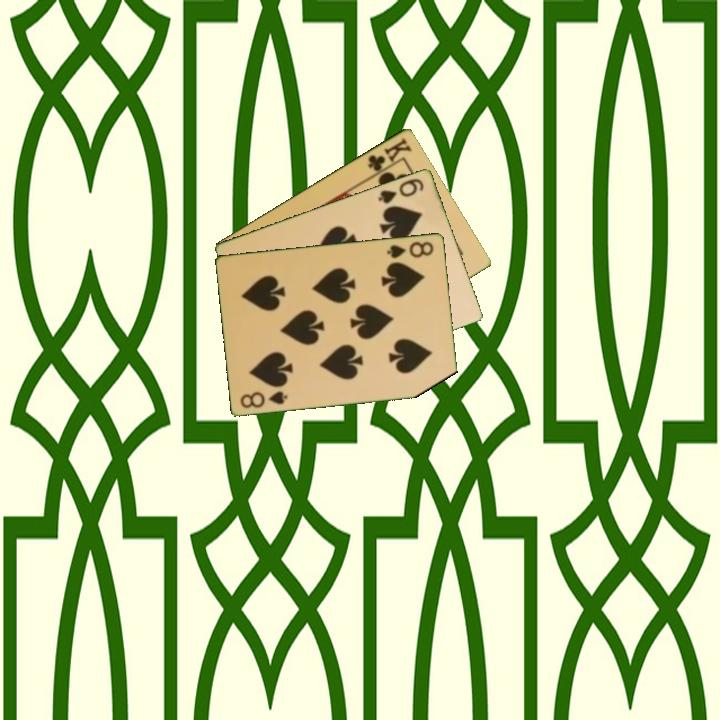6s: (374, 174, 427, 206)
8s: (237, 387, 291, 411), (384, 238, 437, 261)
Kc: (364, 134, 415, 179)
